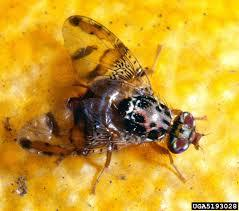Fruit fly: (20, 21, 202, 201)
